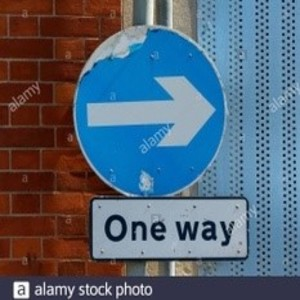trun_right: (73, 23, 227, 201)
